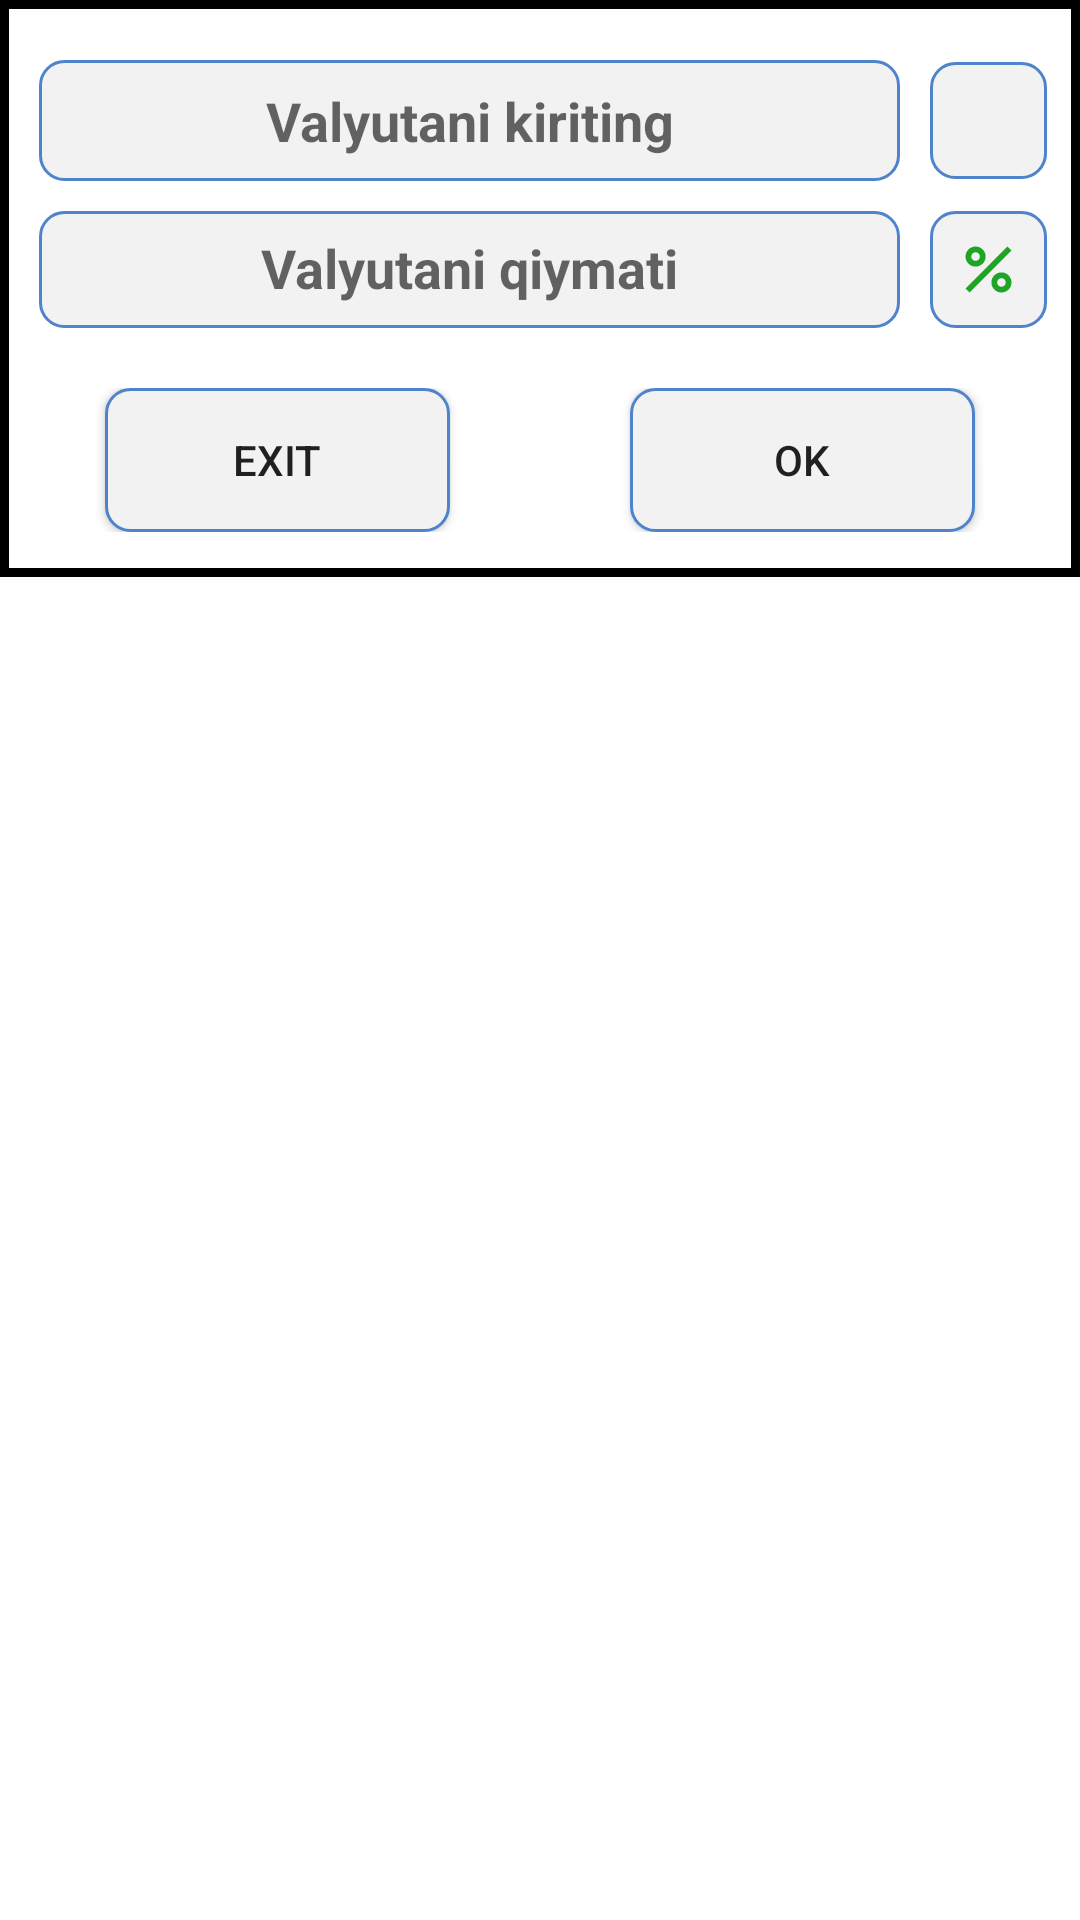

Screen size 1080×1920. Icon name, then its center in pixels as (x,y):
percent: (988,269)
